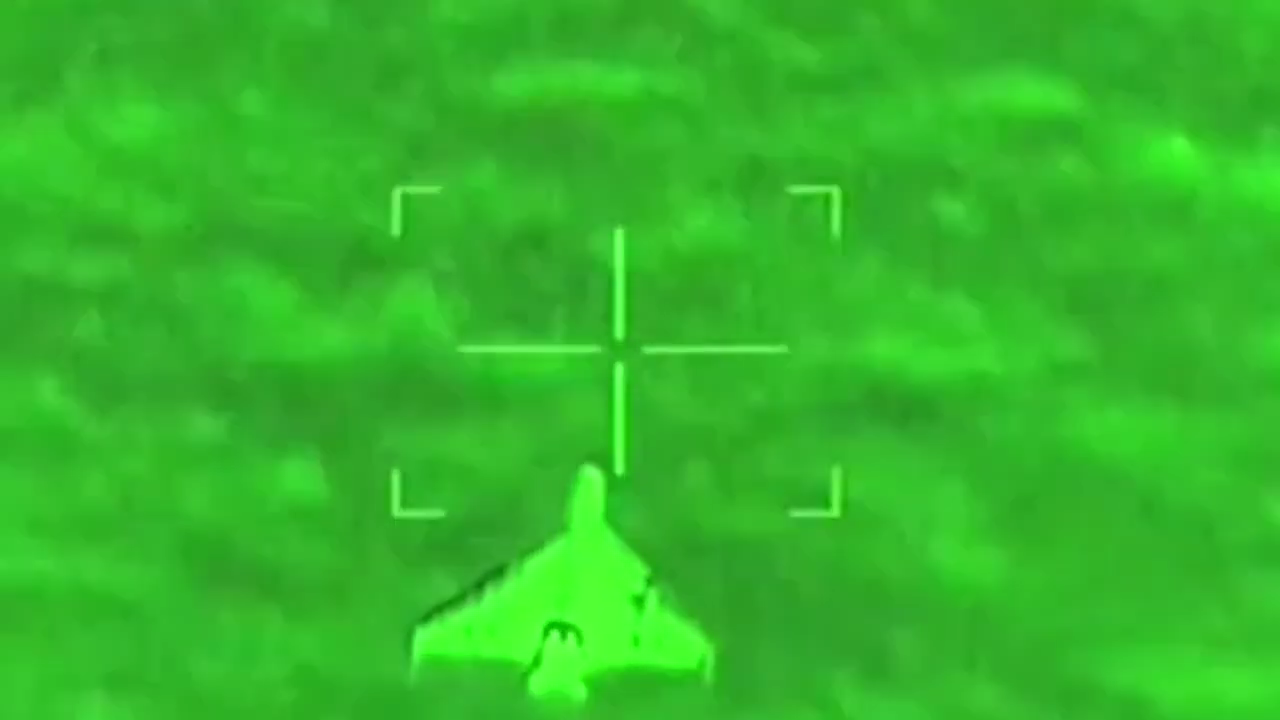shahed: (404, 458, 719, 707)
